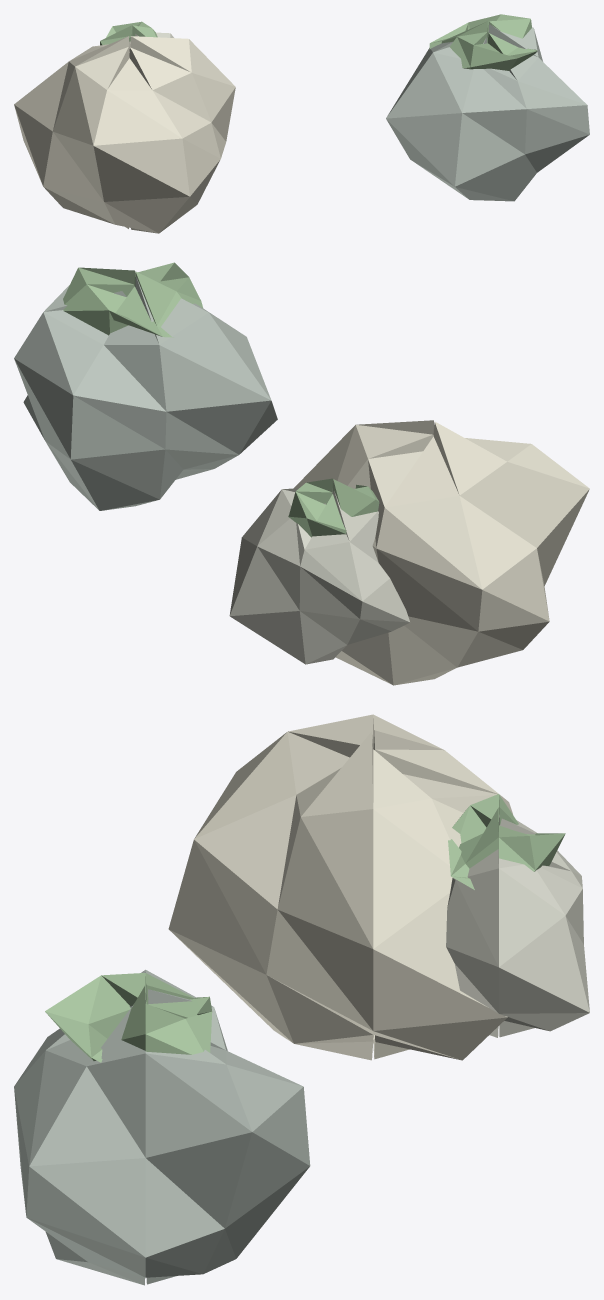
File: moss_boulder.glb
3 renders of one model, top to bottom at view 1: azimuth 30°, elevation 25°; view 2: azimuth 150°, elevation 25°; view 3: azimuth 270°, elevation 25°, orthographic. The views are drawn at different scales.
Visible parts, largest first — view 1: moss_boulder; view 2: moss_boulder; view 3: moss_boulder.
Part boxes in pixels (bbox=[...]): moss_boulder: bbox=[14, 14, 589, 233]; moss_boulder: bbox=[14, 262, 589, 685]; moss_boulder: bbox=[14, 714, 589, 1285].
Size of the model in its own units: 2.68 by 1.07 by 1.7.
